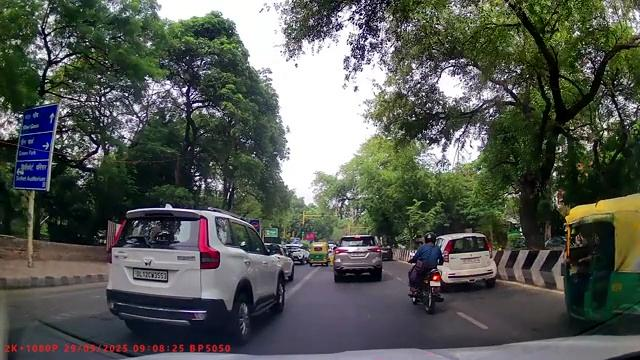motorcycle_with_helmet: (407, 231, 446, 316)
